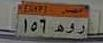1: (23, 17, 28, 34)
5: (30, 20, 38, 33)
6: (39, 17, 47, 35)
haa: (54, 22, 64, 34)
raa: (77, 23, 85, 36)
waw: (65, 19, 76, 36)
